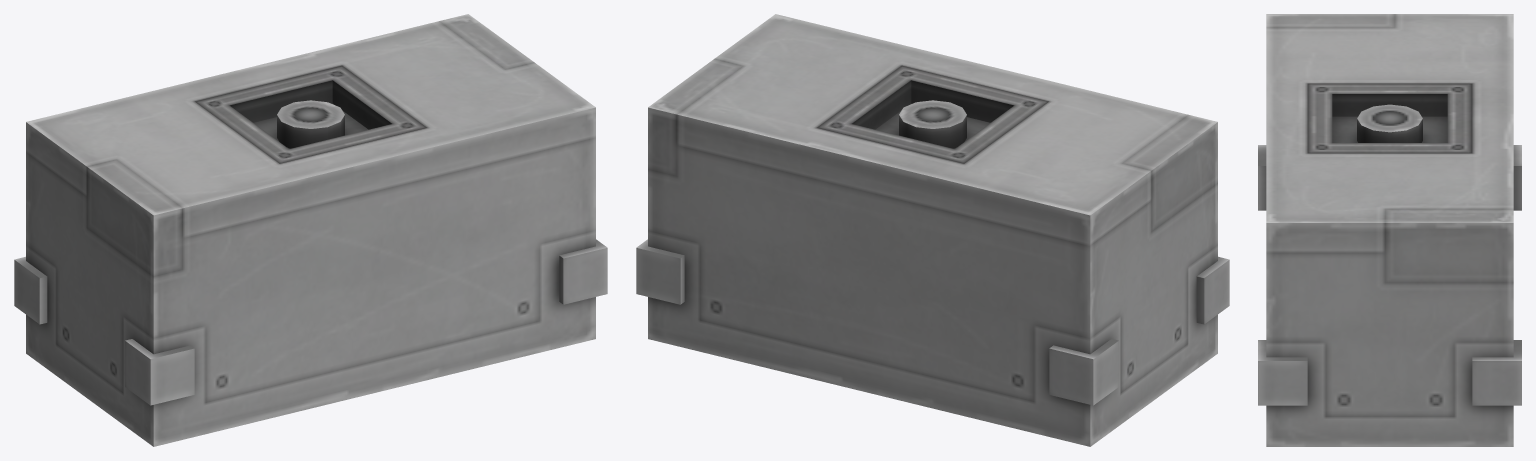
File: sofora_avionics_srf_1.obj
3 renders of one model, left to right at view 1: azimuth 30°, elevation 25°; view 2: azimuth 150°, elevation 25°; view 3: azimuth 270°, elevation 25°, orthographic. The views are drawn at different scales.
Visible parts, largest first — view 1: mesh1; view 2: mesh1; view 3: mesh1.
Boxes of the visible parts, <box> form: mesh1: <box>14,14,607,446</box>; mesh1: <box>636,14,1229,446</box>; mesh1: <box>1258,14,1521,446</box>.
Size of the model in its own units: 0.775 by 0.375 by 0.4.
1 material, 1 textured.
